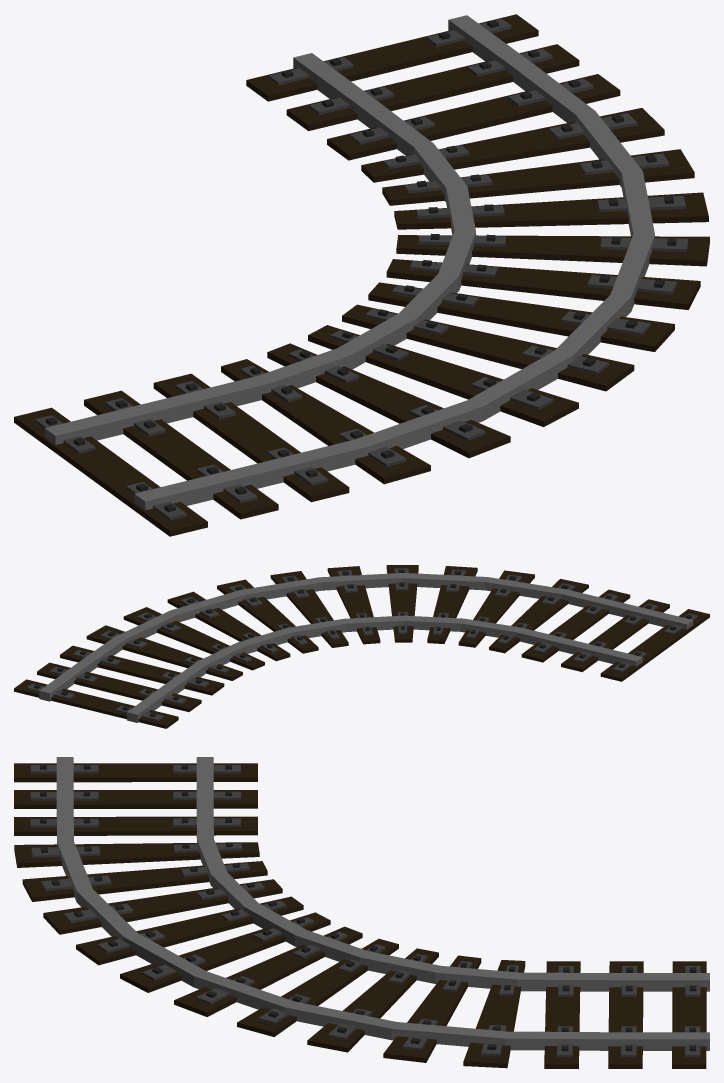
File: rail_curve.fbx
3 renders of one model, top to bottom at view 1: azimuth 30°, elevation 25°; view 2: azimuth 150°, elevation 25°; view 3: azimuth 270°, elevation 25°, orthographic. The views are drawn at different scales.
Parts seen in each view (by area): view 1: Plane.010; view 2: Plane.010; view 3: Plane.010.
Part boxes in pixels (left/top/right/bottom): Plane.010: left=14, top=14, right=709, bottom=536; Plane.010: left=14, top=565, right=709, bottom=728; Plane.010: left=14, top=757, right=709, bottom=1068.
Bounding box in the file's own units: 6.94 × 0.1335 × 6.78.
